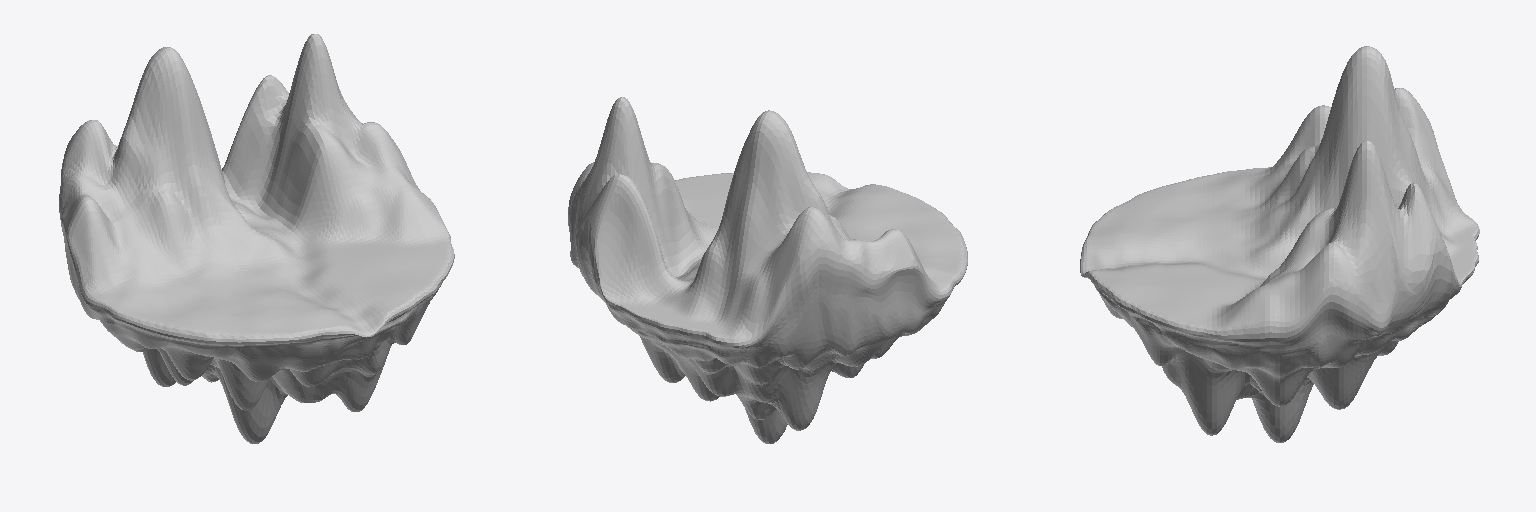
Rendered from island.obj.
The picture shows the model from 3 angles: view 1: azimuth 30°, elevation 25°; view 2: azimuth 150°, elevation 25°; view 3: azimuth 270°, elevation 25°; orthographic projection.
Parts seen in each view (by area): view 1: Cylinder.008_Cylinder.009; view 2: Cylinder.008_Cylinder.009; view 3: Cylinder.008_Cylinder.009.
Part boxes in pixels (left/top/right/bottom): Cylinder.008_Cylinder.009: left=59, top=34, right=454, bottom=443; Cylinder.008_Cylinder.009: left=568, top=97, right=967, bottom=443; Cylinder.008_Cylinder.009: left=1080, top=46, right=1479, bottom=442.
Bounding box in the file's own units: 201 × 206 × 200.